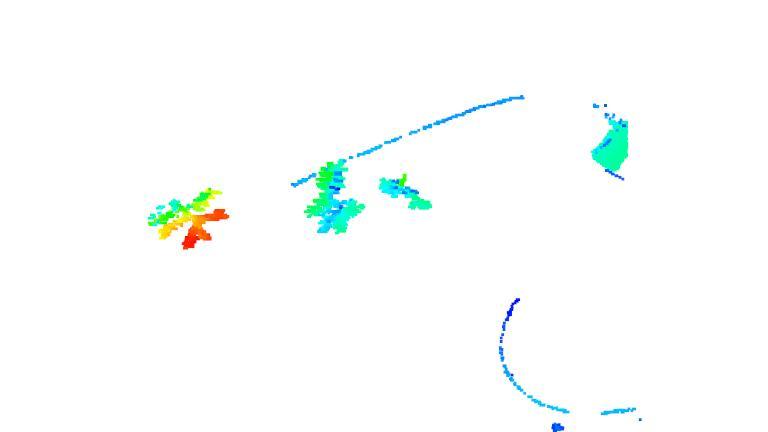chickpea: (144, 185, 233, 250), (306, 156, 369, 239), (379, 172, 432, 215)
